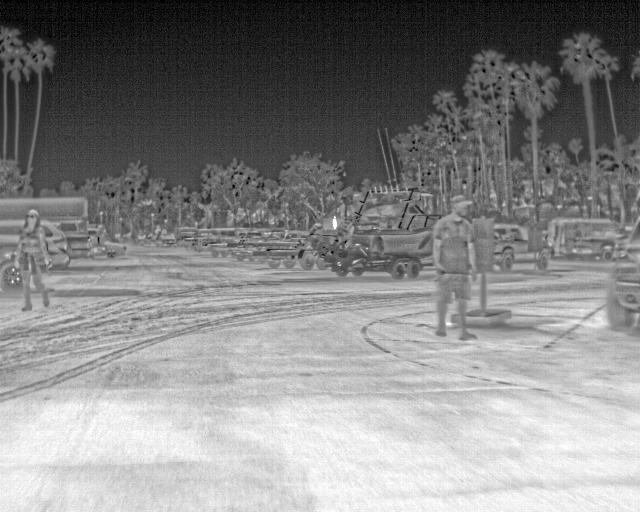bicycle: (2, 197, 92, 258), (548, 218, 626, 263), (608, 219, 639, 332), (491, 222, 551, 270), (38, 223, 72, 270), (1, 219, 27, 245), (102, 240, 129, 260)
empty: (428, 195, 475, 343), (17, 206, 53, 309)
